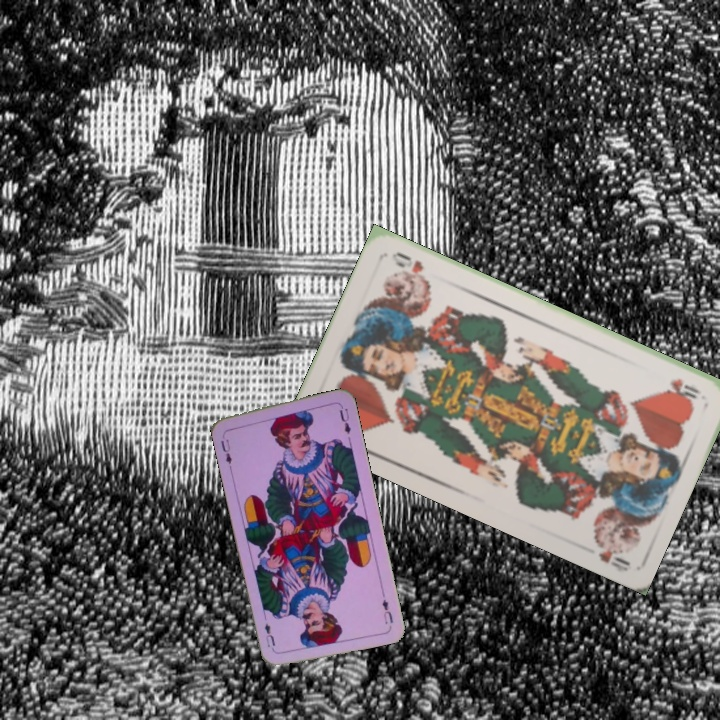EU: (217, 429, 234, 469), (378, 596, 395, 627)
HO: (663, 374, 703, 403)
